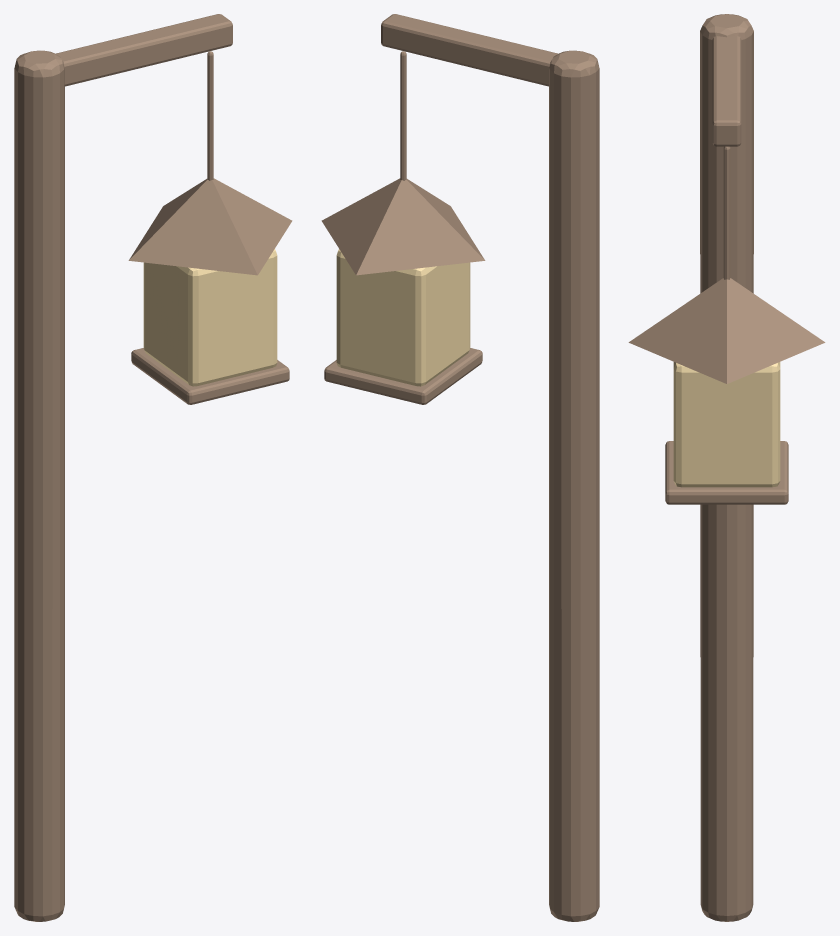
Rendered from camp_lantern.glb.
3 renders of one model, left to right at view 1: azimuth 30°, elevation 25°; view 2: azimuth 150°, elevation 25°; view 3: azimuth 270°, elevation 25°, orthographic. The views are drawn at different scales.
Visible parts, largest first — view 1: camp_lantern; view 2: camp_lantern; view 3: camp_lantern.
Part boxes in pixels (x1,y1,x2,y2): camp_lantern: (14, 14, 292, 921); camp_lantern: (321, 14, 599, 921); camp_lantern: (628, 14, 825, 921).
Bounding box in the file's own units: 0.804 × 2.4 × 0.48.
